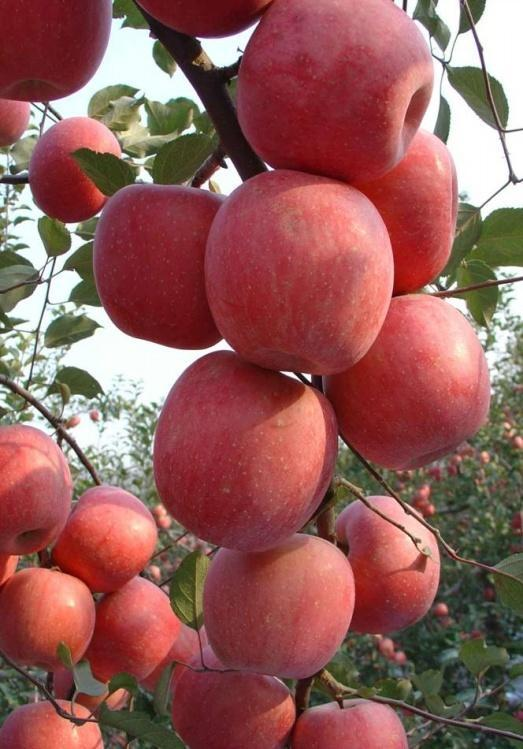apple: (205, 168, 396, 375), (153, 350, 339, 548), (238, 1, 434, 180), (323, 294, 490, 474), (90, 182, 235, 351), (203, 539, 356, 672), (352, 126, 460, 297), (335, 493, 440, 636), (48, 485, 158, 598), (170, 652, 291, 748), (1, 1, 114, 103), (1, 562, 96, 682), (84, 577, 183, 686), (25, 117, 123, 225), (1, 426, 70, 558), (286, 702, 408, 749), (1, 699, 107, 749)
